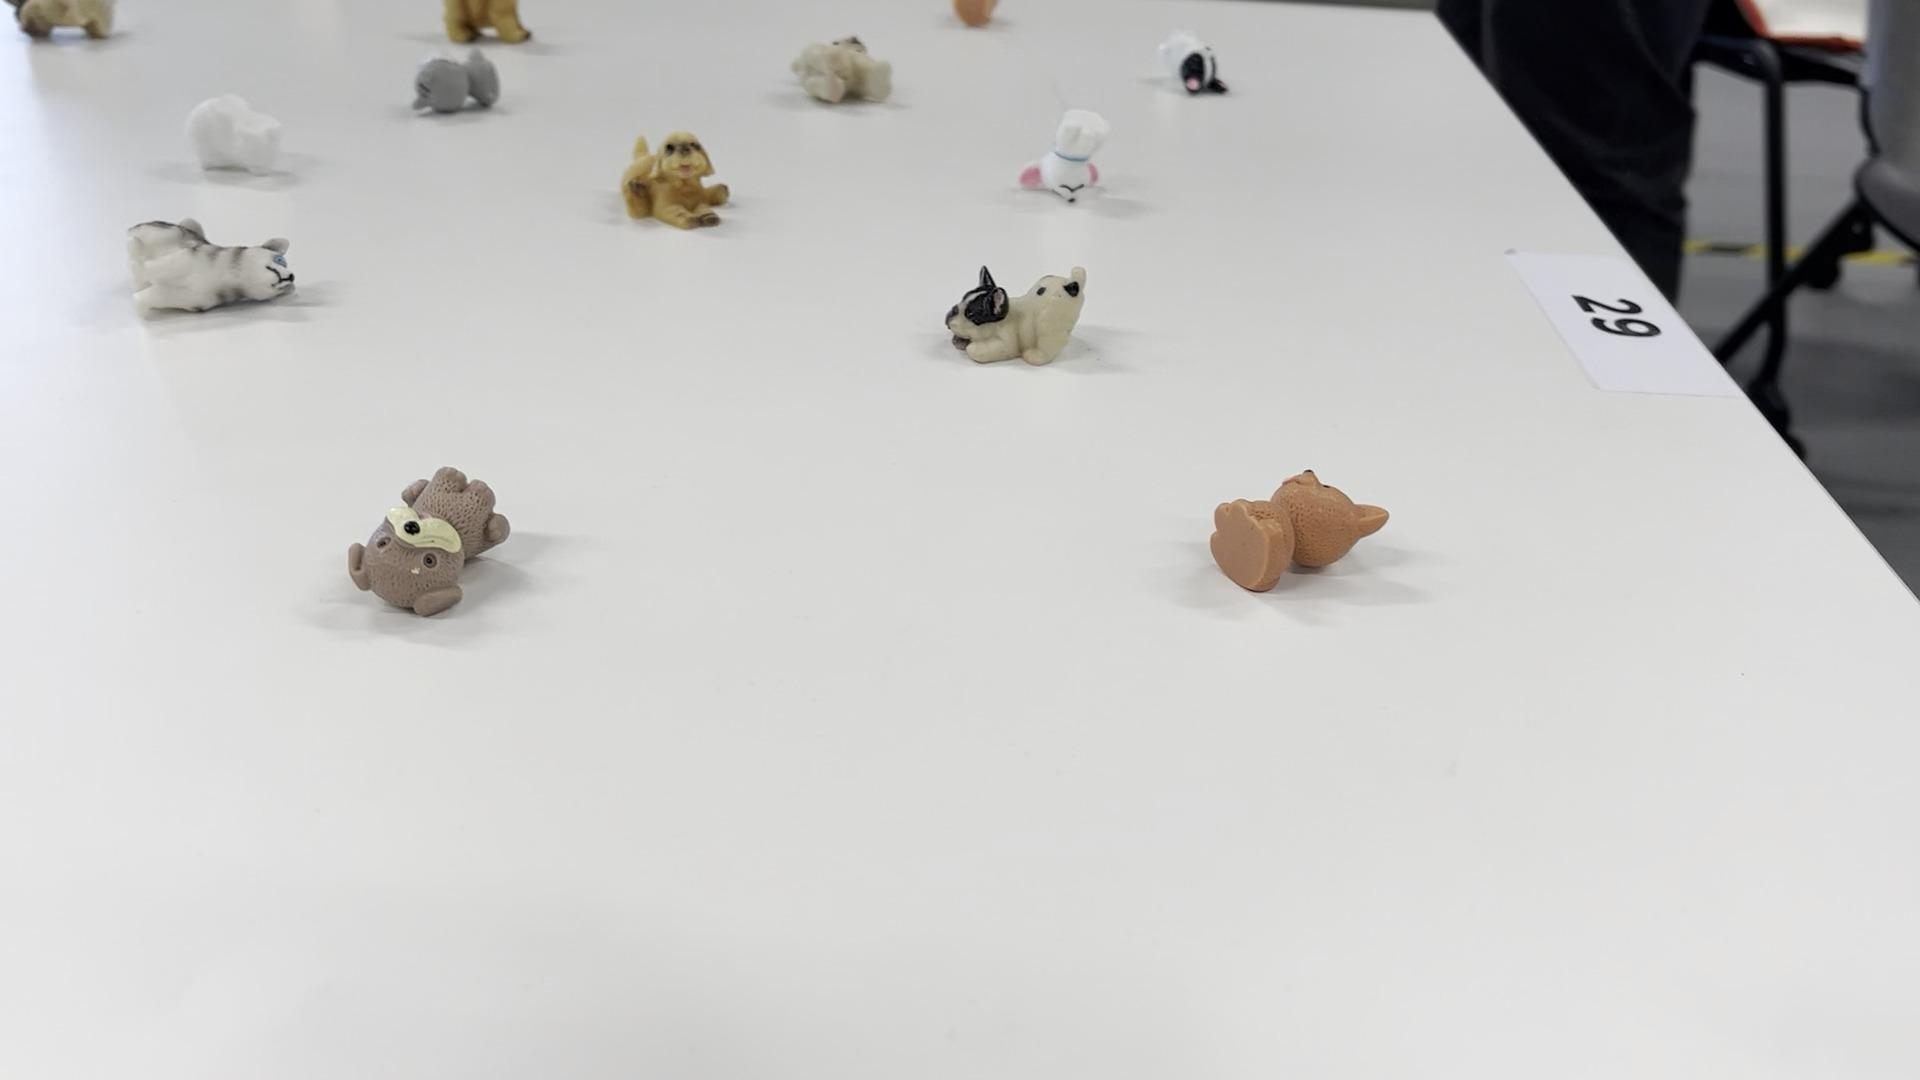pet: (342, 452, 517, 646), (1201, 448, 1398, 604), (121, 208, 313, 332), (948, 258, 1102, 373), (615, 129, 732, 233), (781, 22, 901, 113), (181, 82, 294, 175), (1031, 103, 1109, 222), (1147, 22, 1228, 117), (401, 53, 518, 115), (8, 0, 132, 53), (436, 0, 541, 49)
